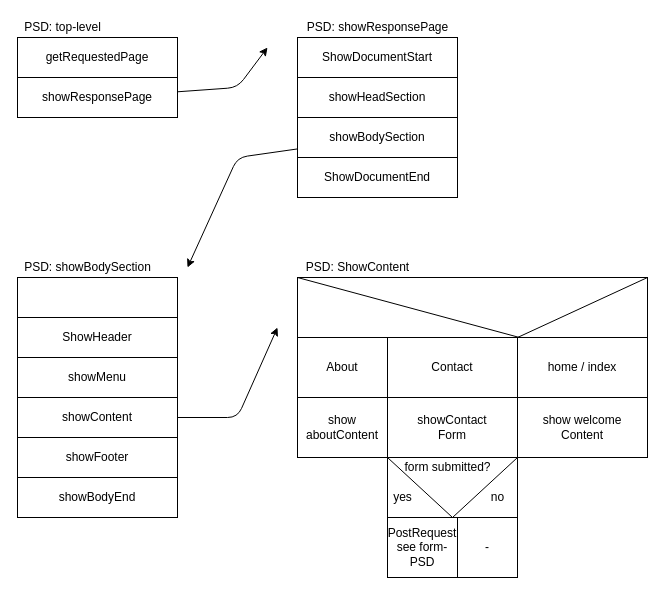
The diagram is 666 pixels wide and 595 high, and some of its shapes have lost their labels. The shapes that lost their labels are listed below. From the top down, each one's centre as x and y in pixels, then its label:
At (97,297): "ShowBodyStart".
At (472,307): "Page name?".
